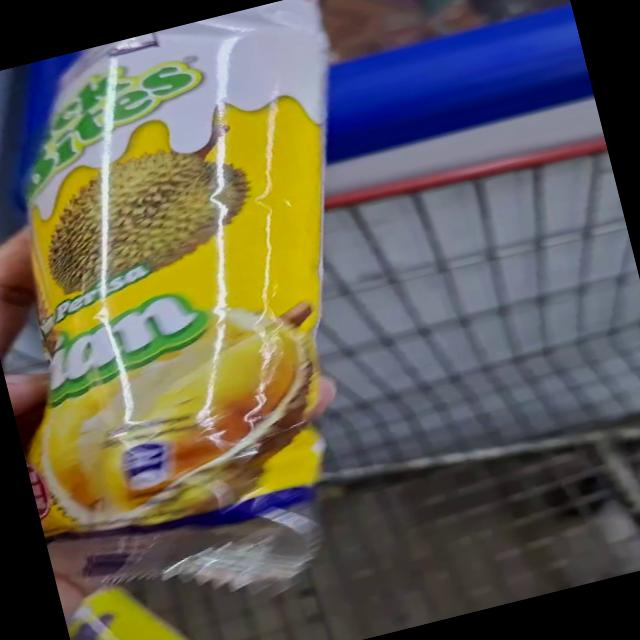Roti: (0, 221, 381, 640), (19, 0, 396, 326)
